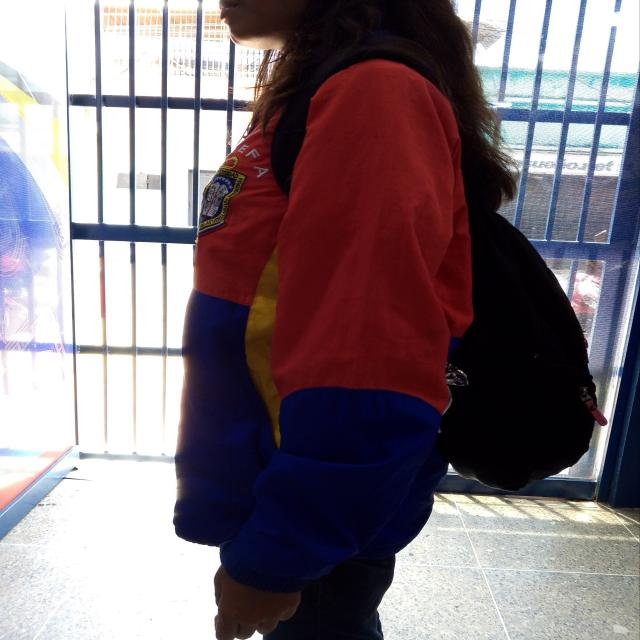chaqueta_unefa: (173, 46, 476, 597)
